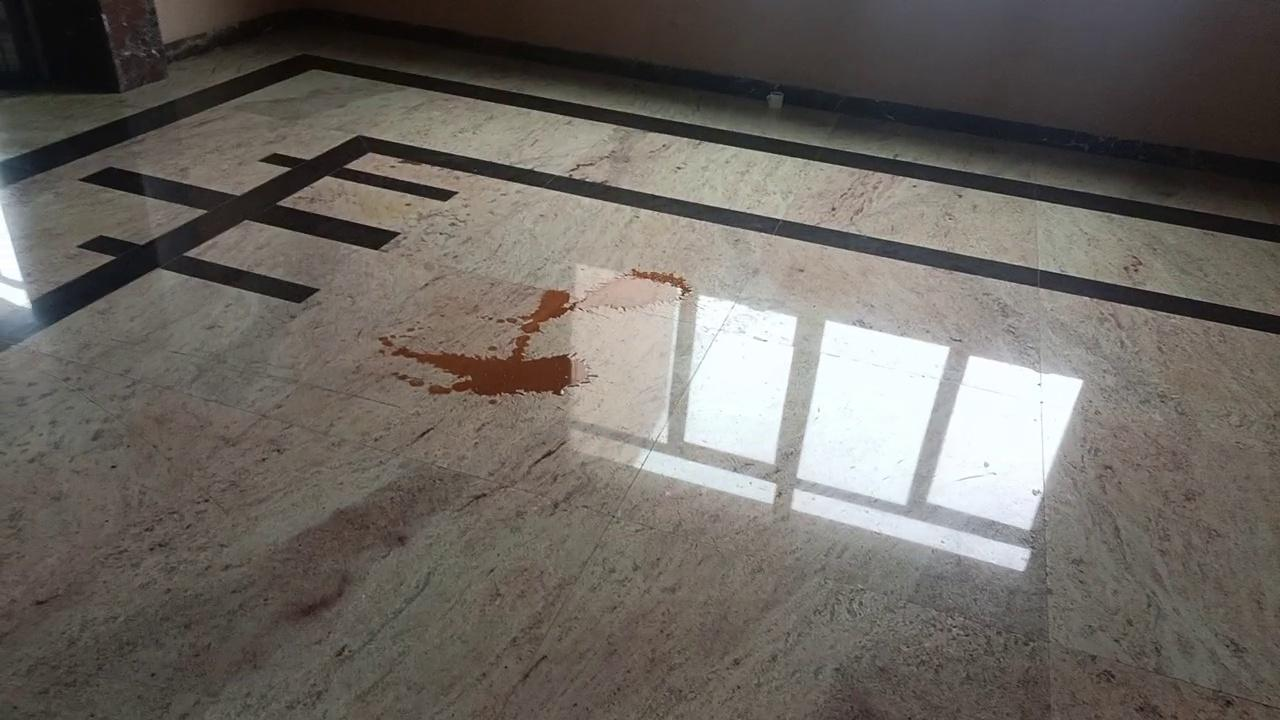dirty_floor: (374, 267, 715, 409)
